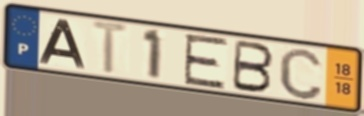1: (140, 27, 165, 82)
A: (36, 17, 89, 71)
B: (230, 38, 276, 95)
C: (277, 46, 325, 102)
E: (181, 33, 230, 91)
T: (89, 18, 133, 77)
